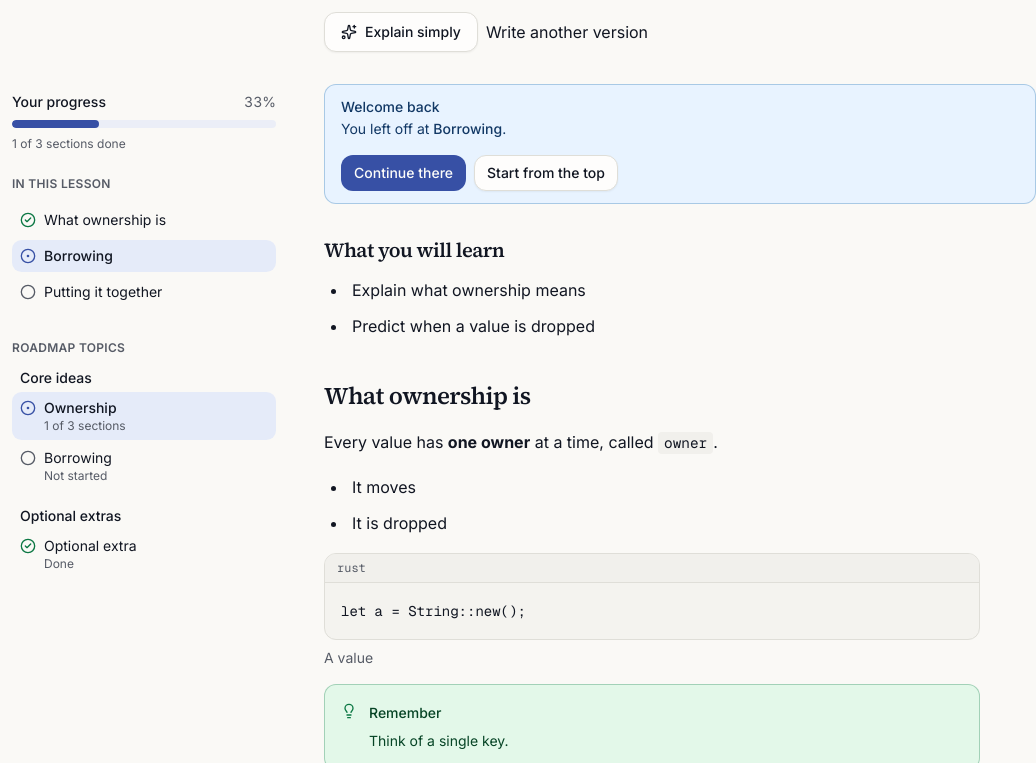
Test: resuming a lesson › lets the learner continue there from the banner
This screenshot has width=1036, height=763.
Click the button "Continue there": (404, 173) 341,155 -> 466,191
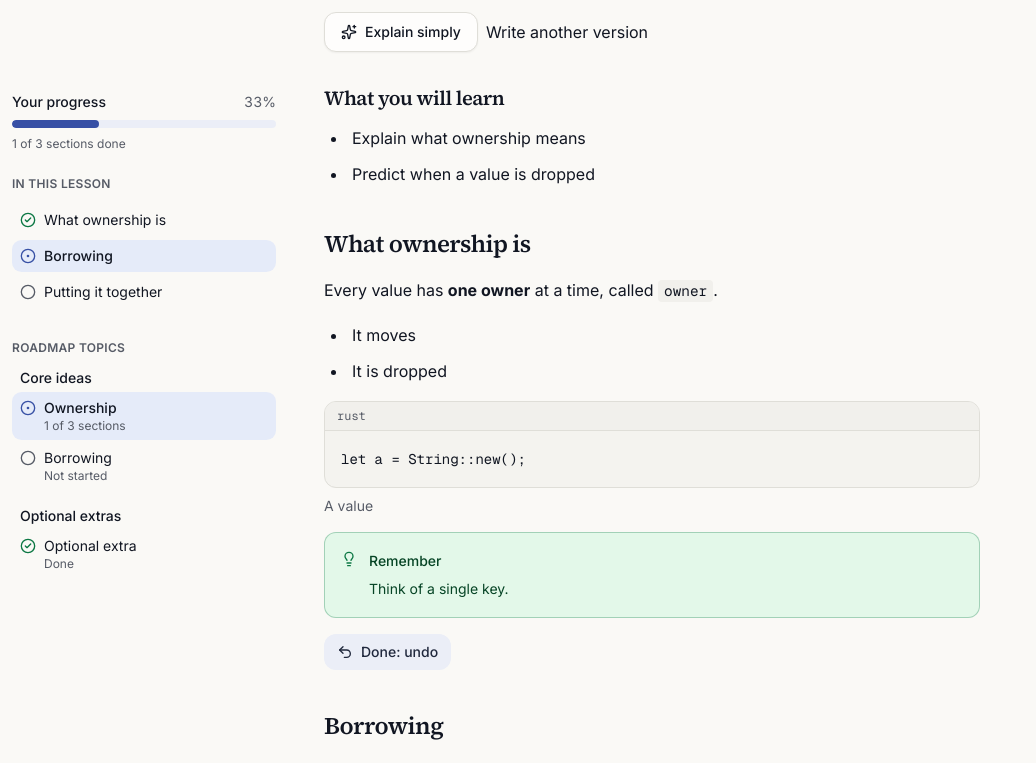
Expected: the text "Welcome back" is gone
